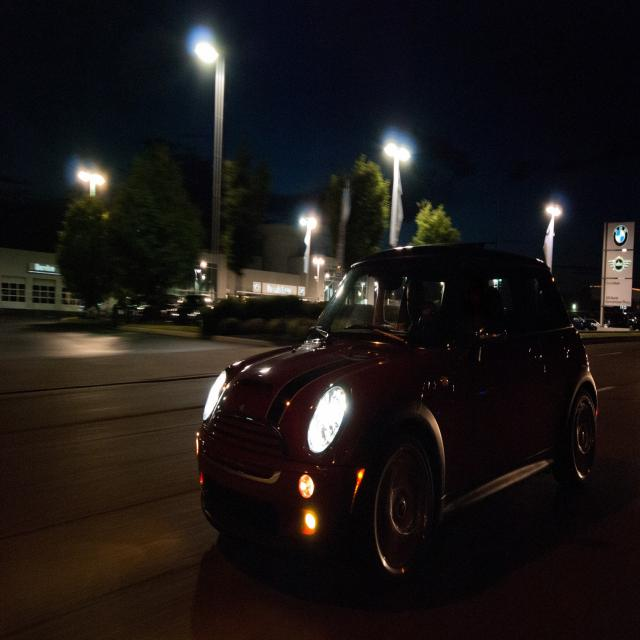Car: (183, 264, 612, 559), (85, 262, 325, 337)
